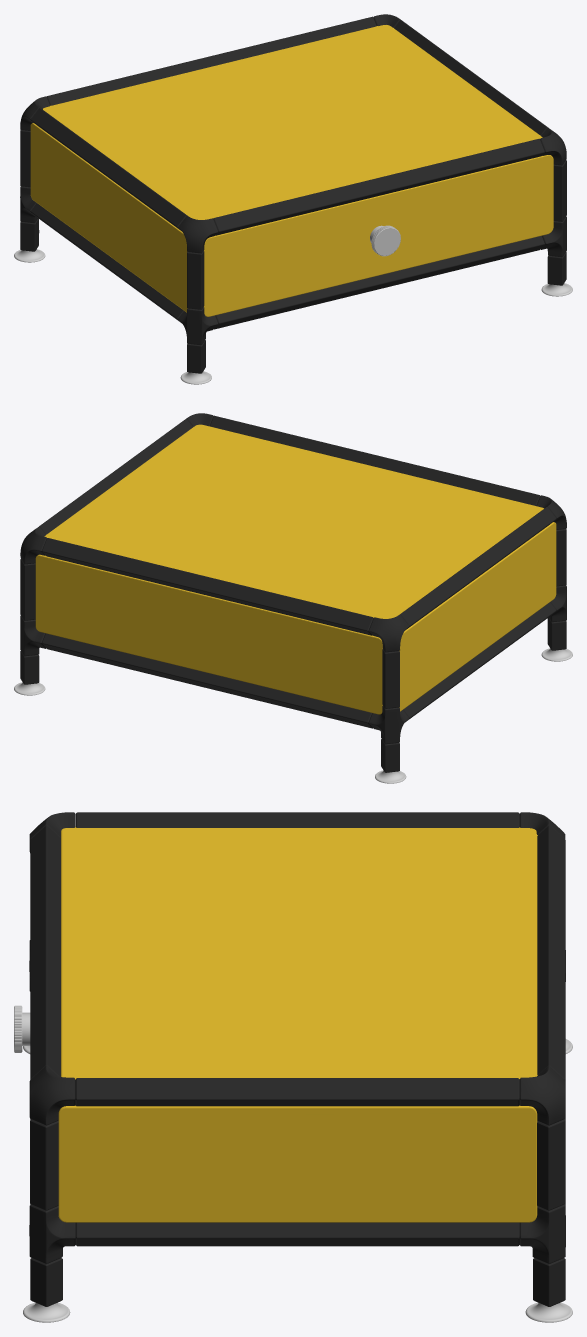
The picture shows the model from 3 angles, top to bottom: view 1: azimuth 30°, elevation 25°; view 2: azimuth 150°, elevation 25°; view 3: azimuth 270°, elevation 25°; orthographic projection. The views are drawn at different scales.
Visible parts, largest first — view 1: 479x374x79; view 2: 479x374x79; view 3: 479x374x79.
Boxes of the visible parts, bbox=[...] form: 479x374x79: bbox=[14, 14, 572, 384]; 479x374x79: bbox=[14, 413, 572, 783]; 479x374x79: bbox=[14, 812, 572, 1322].
Size of the model in its own units: 0.5689 by 0.2183 by 0.4707.
